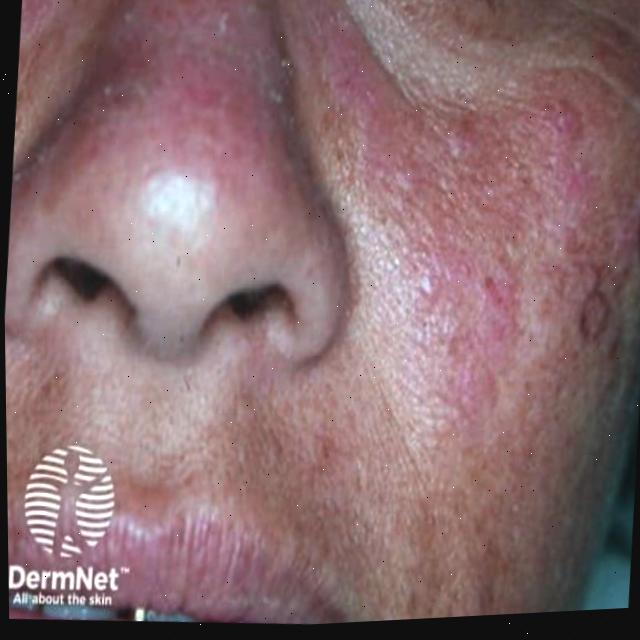lupus-detected: (338, 86, 640, 460), (36, 0, 370, 299)
